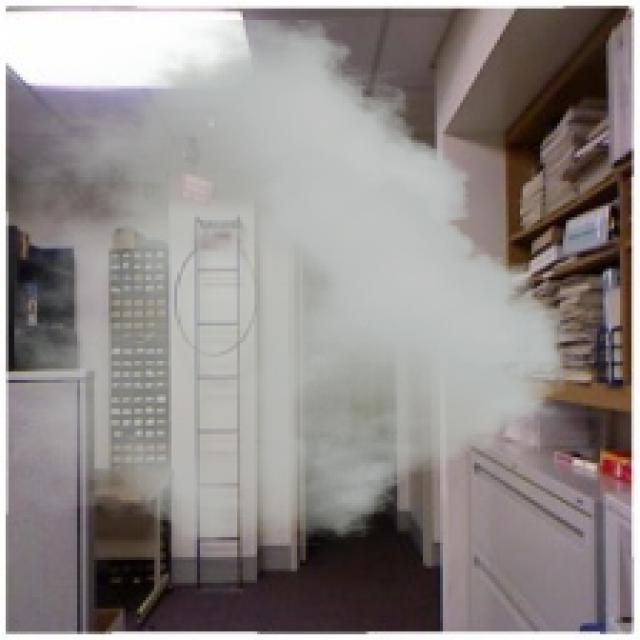Smoke: (14, 20, 566, 546)
